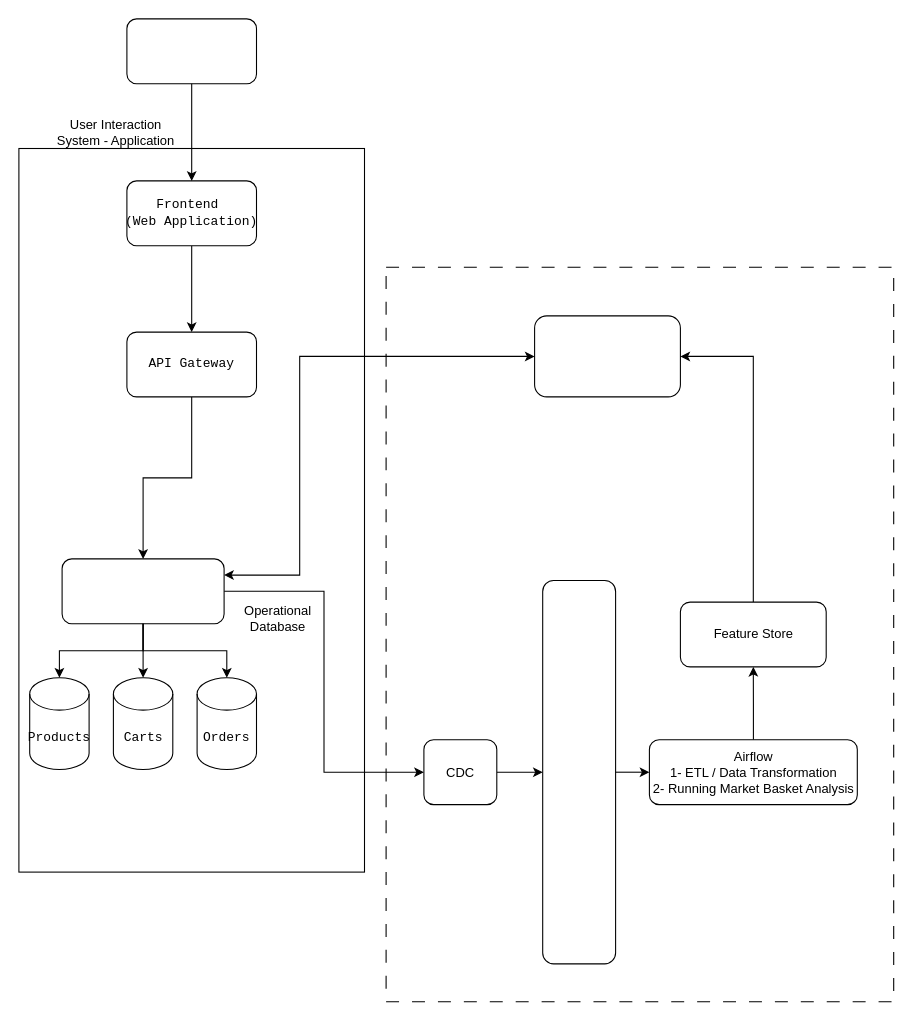
Some shapes in this 913 by 1021 pixel diagram are drawn without their labels. Here are the shapes that lost their labels. From the top down, the box of each, then its label:
(126, 18, 256, 84): User
(534, 315, 680, 397): Frequently Bought Together
(61, 558, 224, 624): Backend (E-commerce Service)
(542, 579, 616, 964): Kafka
